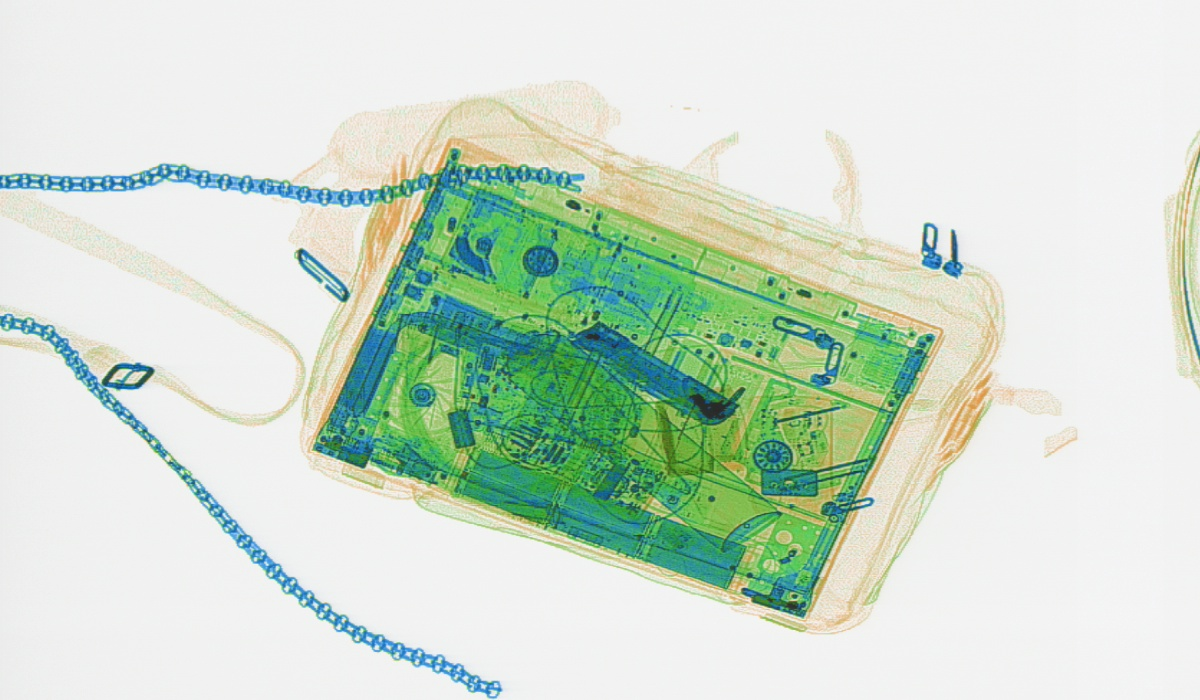knife: (567, 317, 745, 426)
pressure: (496, 325, 782, 553)
